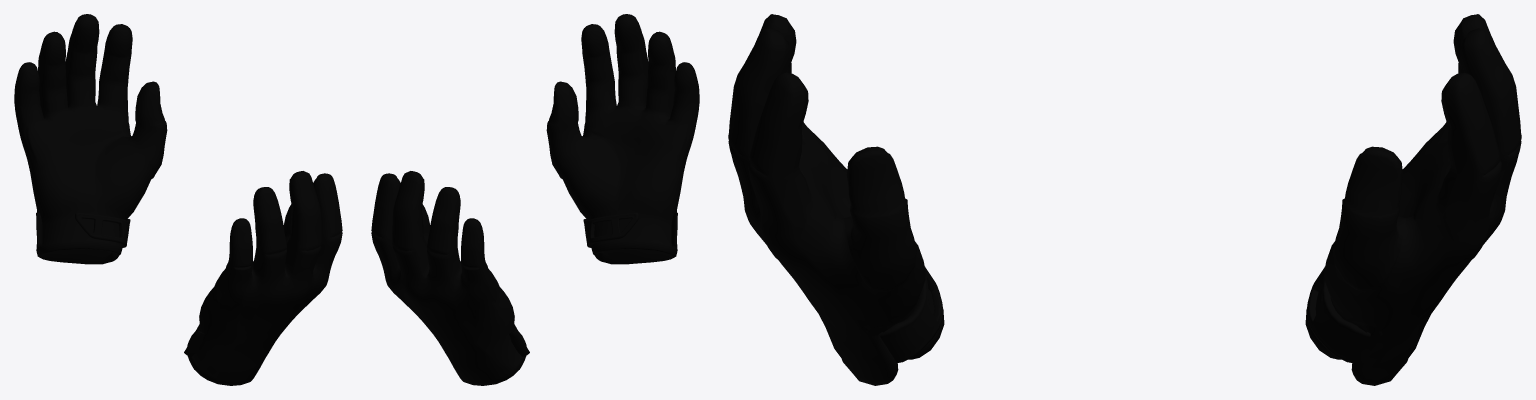
3 views of the same model, side by side, from view 1: azimuth 30°, elevation 25°; view 2: azimuth 150°, elevation 25°; view 3: azimuth 270°, elevation 25° (orthographic). The views are drawn at different scales.
Parts seen in each view (by area): view 1: characters/models/shared/arms/glove_sporty/w_glove_sporty.v; view 2: characters/models/shared/arms/glove_sporty/w_glove_sporty.v; view 3: characters/models/shared/arms/glove_sporty/w_glove_sporty.v.
Boxes of the visible parts, bbox=[...] form: characters/models/shared/arms/glove_sporty/w_glove_sporty.v: bbox=[14, 14, 342, 385]; characters/models/shared/arms/glove_sporty/w_glove_sporty.v: bbox=[371, 14, 699, 385]; characters/models/shared/arms/glove_sporty/w_glove_sporty.v: bbox=[728, 14, 1521, 385].
Bounding box in the file's own units: 5.7 × 9.55 × 18.58.
2 materials, 2 textured.
